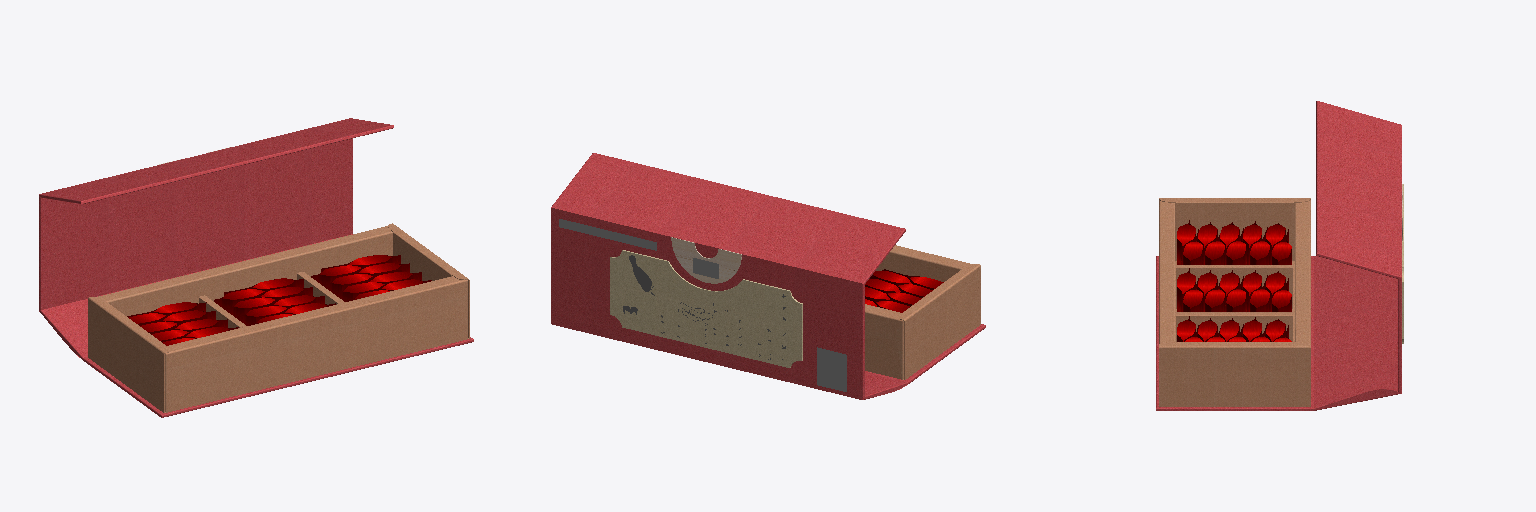
3 views of the same model, side by side, from view 1: azimuth 30°, elevation 25°; view 2: azimuth 150°, elevation 25°; view 3: azimuth 270°, elevation 25° (orthographic).
Parts seen in each view (by area): view 1: DirectConnectNode_80_DC_Shell; view 2: DirectConnectNode_80_DC_Shell, Rectangle009, Rectangle008, Plane003; view 3: DirectConnectNode_80_DC_Shell.
Boxes of the visible parts, <box> form: DirectConnectNode_80_DC_Shell: <box>39,118,473,417</box>; DirectConnectNode_80_DC_Shell: <box>551,153,985,399</box>; Rectangle009: <box>817,347,846,391</box>; Rectangle008: <box>559,219,656,250</box>; Plane003: <box>623,255,785,359</box>; DirectConnectNode_80_DC_Shell: <box>1156,101,1403,410</box>.
Size of the model in its own units: 421 by 203 by 289.
Materials: 8 (6 with a texture image).